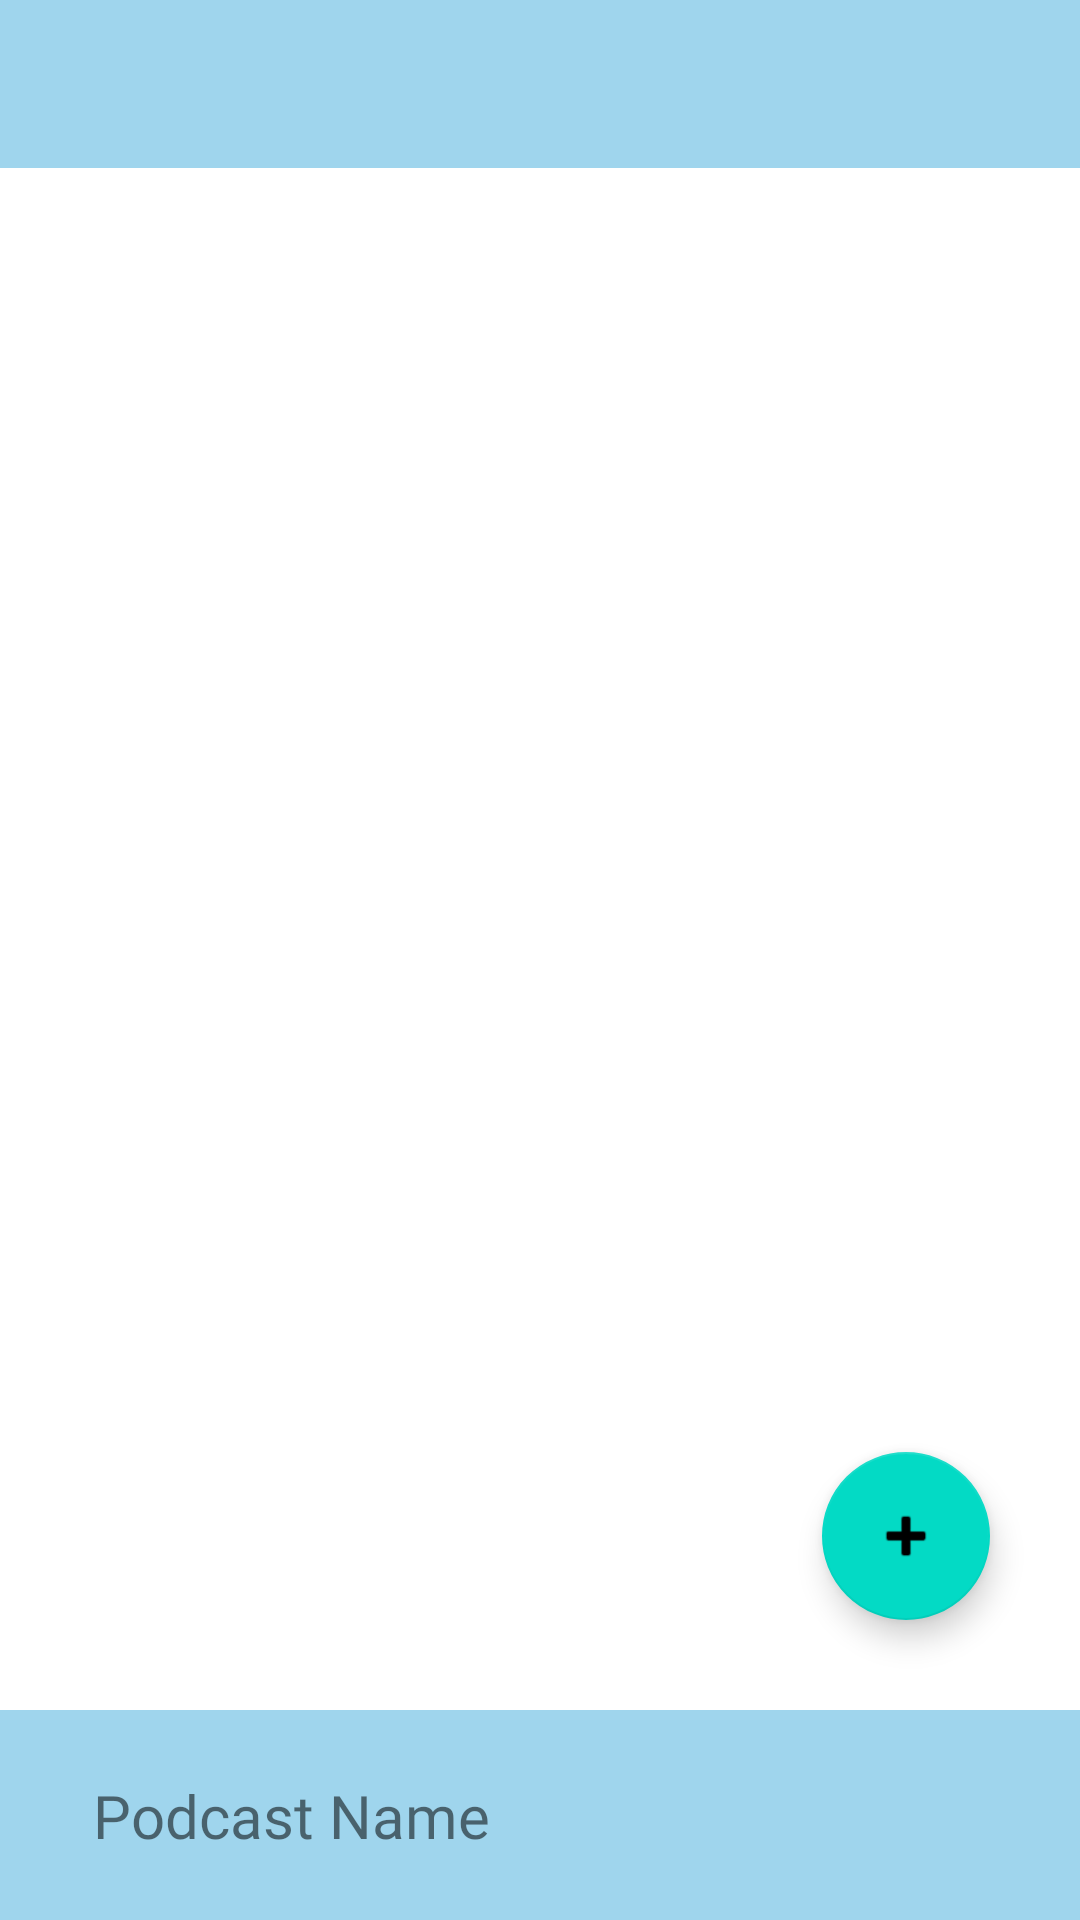

Point at icon controls on the screen. Image size 1080px x 1920px, points as (x,y).
add: (906,1536)
